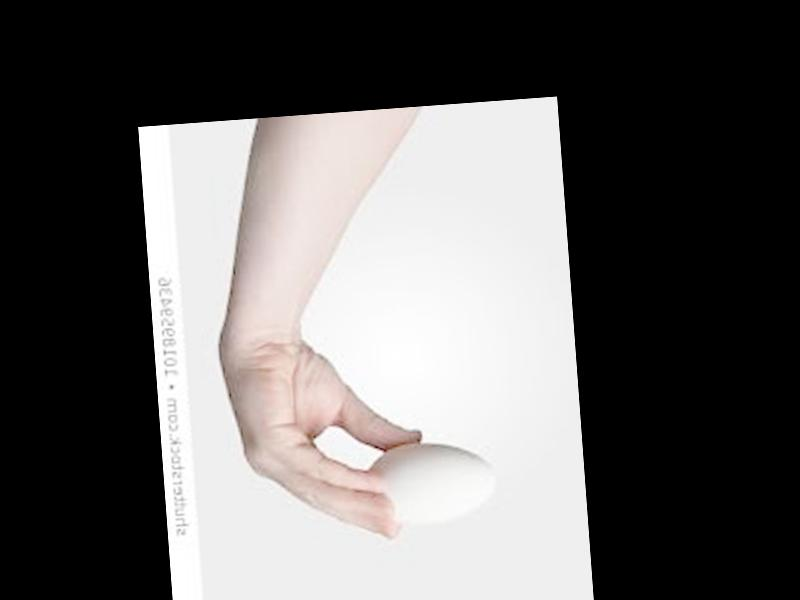Eggs: (365, 437, 501, 531)
